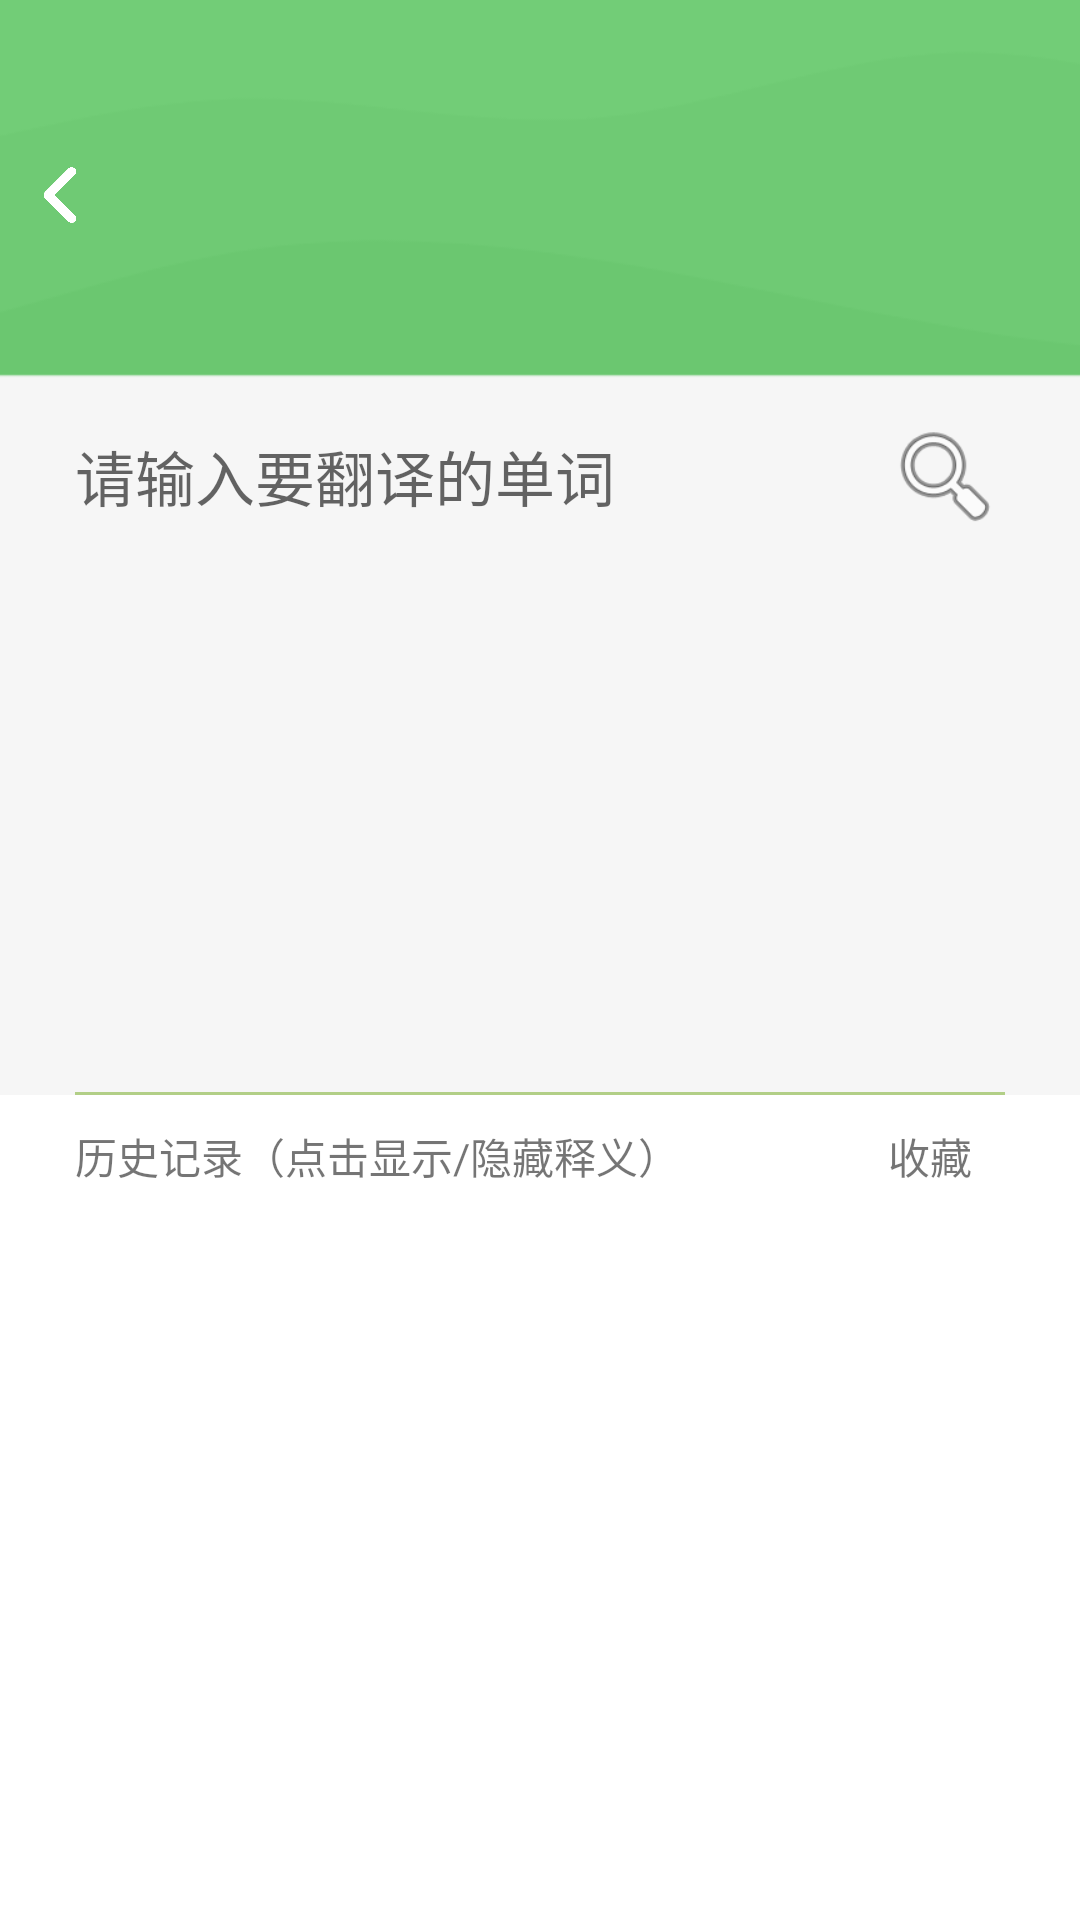

Where to tap for icons on this 1080*1920 app screen, as (x,y):
back: (60,195)
